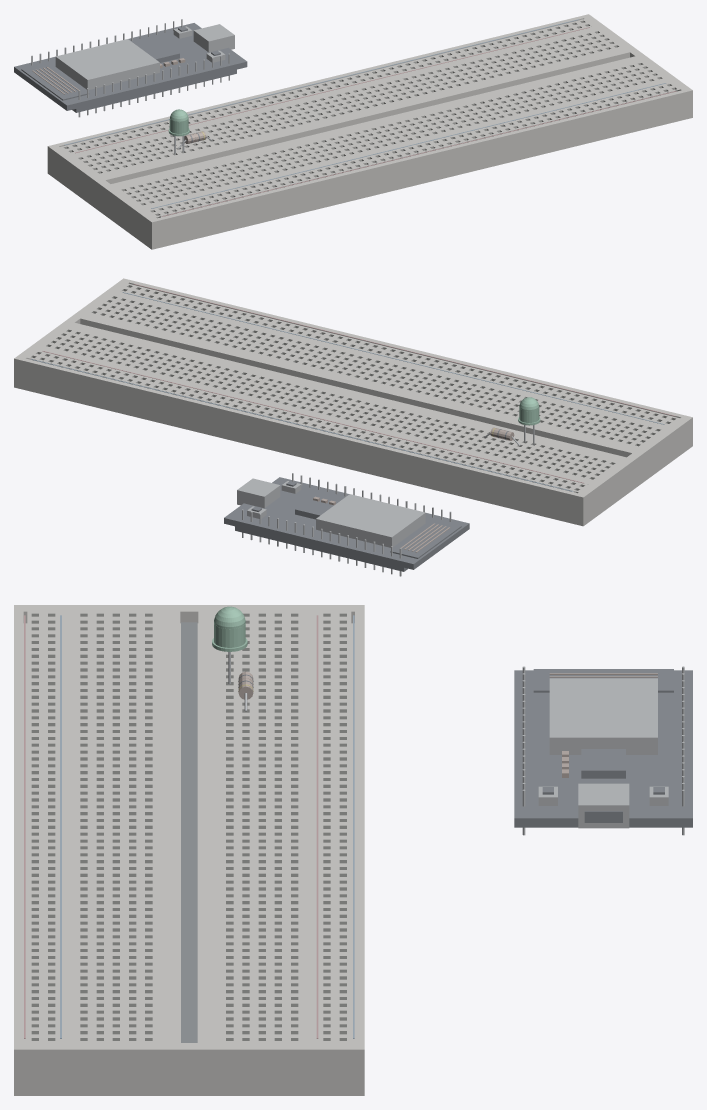
The model's file is step-3.glb.
3 views of the same model, one above another, from view 1: azimuth 30°, elevation 25°; view 2: azimuth 150°, elevation 25°; view 3: azimuth 270°, elevation 25° (orthographic). The views are drawn at different scales.
Visible parts, largest first — view 1: breadboard__mesh, uno__mesh, green_led__mesh; view 2: breadboard__mesh, uno__mesh, green_led__mesh; view 3: breadboard__mesh, uno__mesh, green_led__mesh.
Boxes of the visible parts, <box> form: breadboard__mesh: <box>47,14,692,249</box>; uno__mesh: <box>14,19,247,117</box>; green_led__mesh: <box>168,109,189,154</box>; breadboard__mesh: <box>14,278,692,526</box>; uno__mesh: <box>224,473,469,576</box>; green_led__mesh: <box>518,397,540,444</box>; breadboard__mesh: <box>14,605,364,1095</box>; uno__mesh: <box>514,666,692,835</box>; green_led__mesh: <box>212,606,247,684</box>.
Bounding box in the file's own units: 0.165 × 0.0205 × 0.1065.
